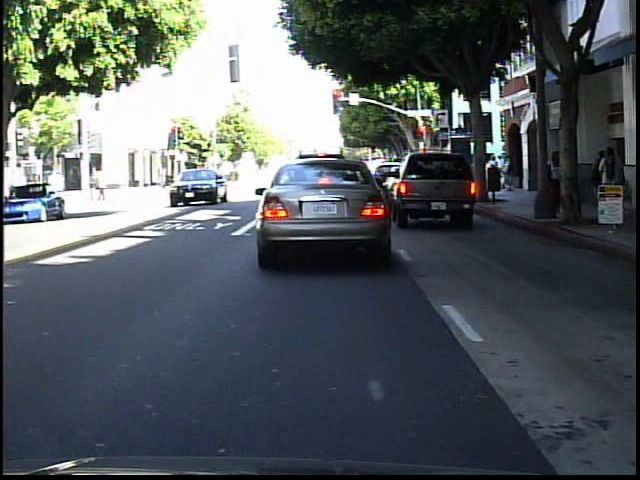person: (598, 144, 627, 218), (545, 147, 568, 217), (88, 162, 110, 205), (591, 147, 606, 207)
